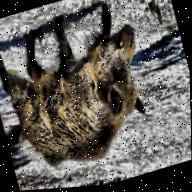boar: (0, 0, 175, 181)
